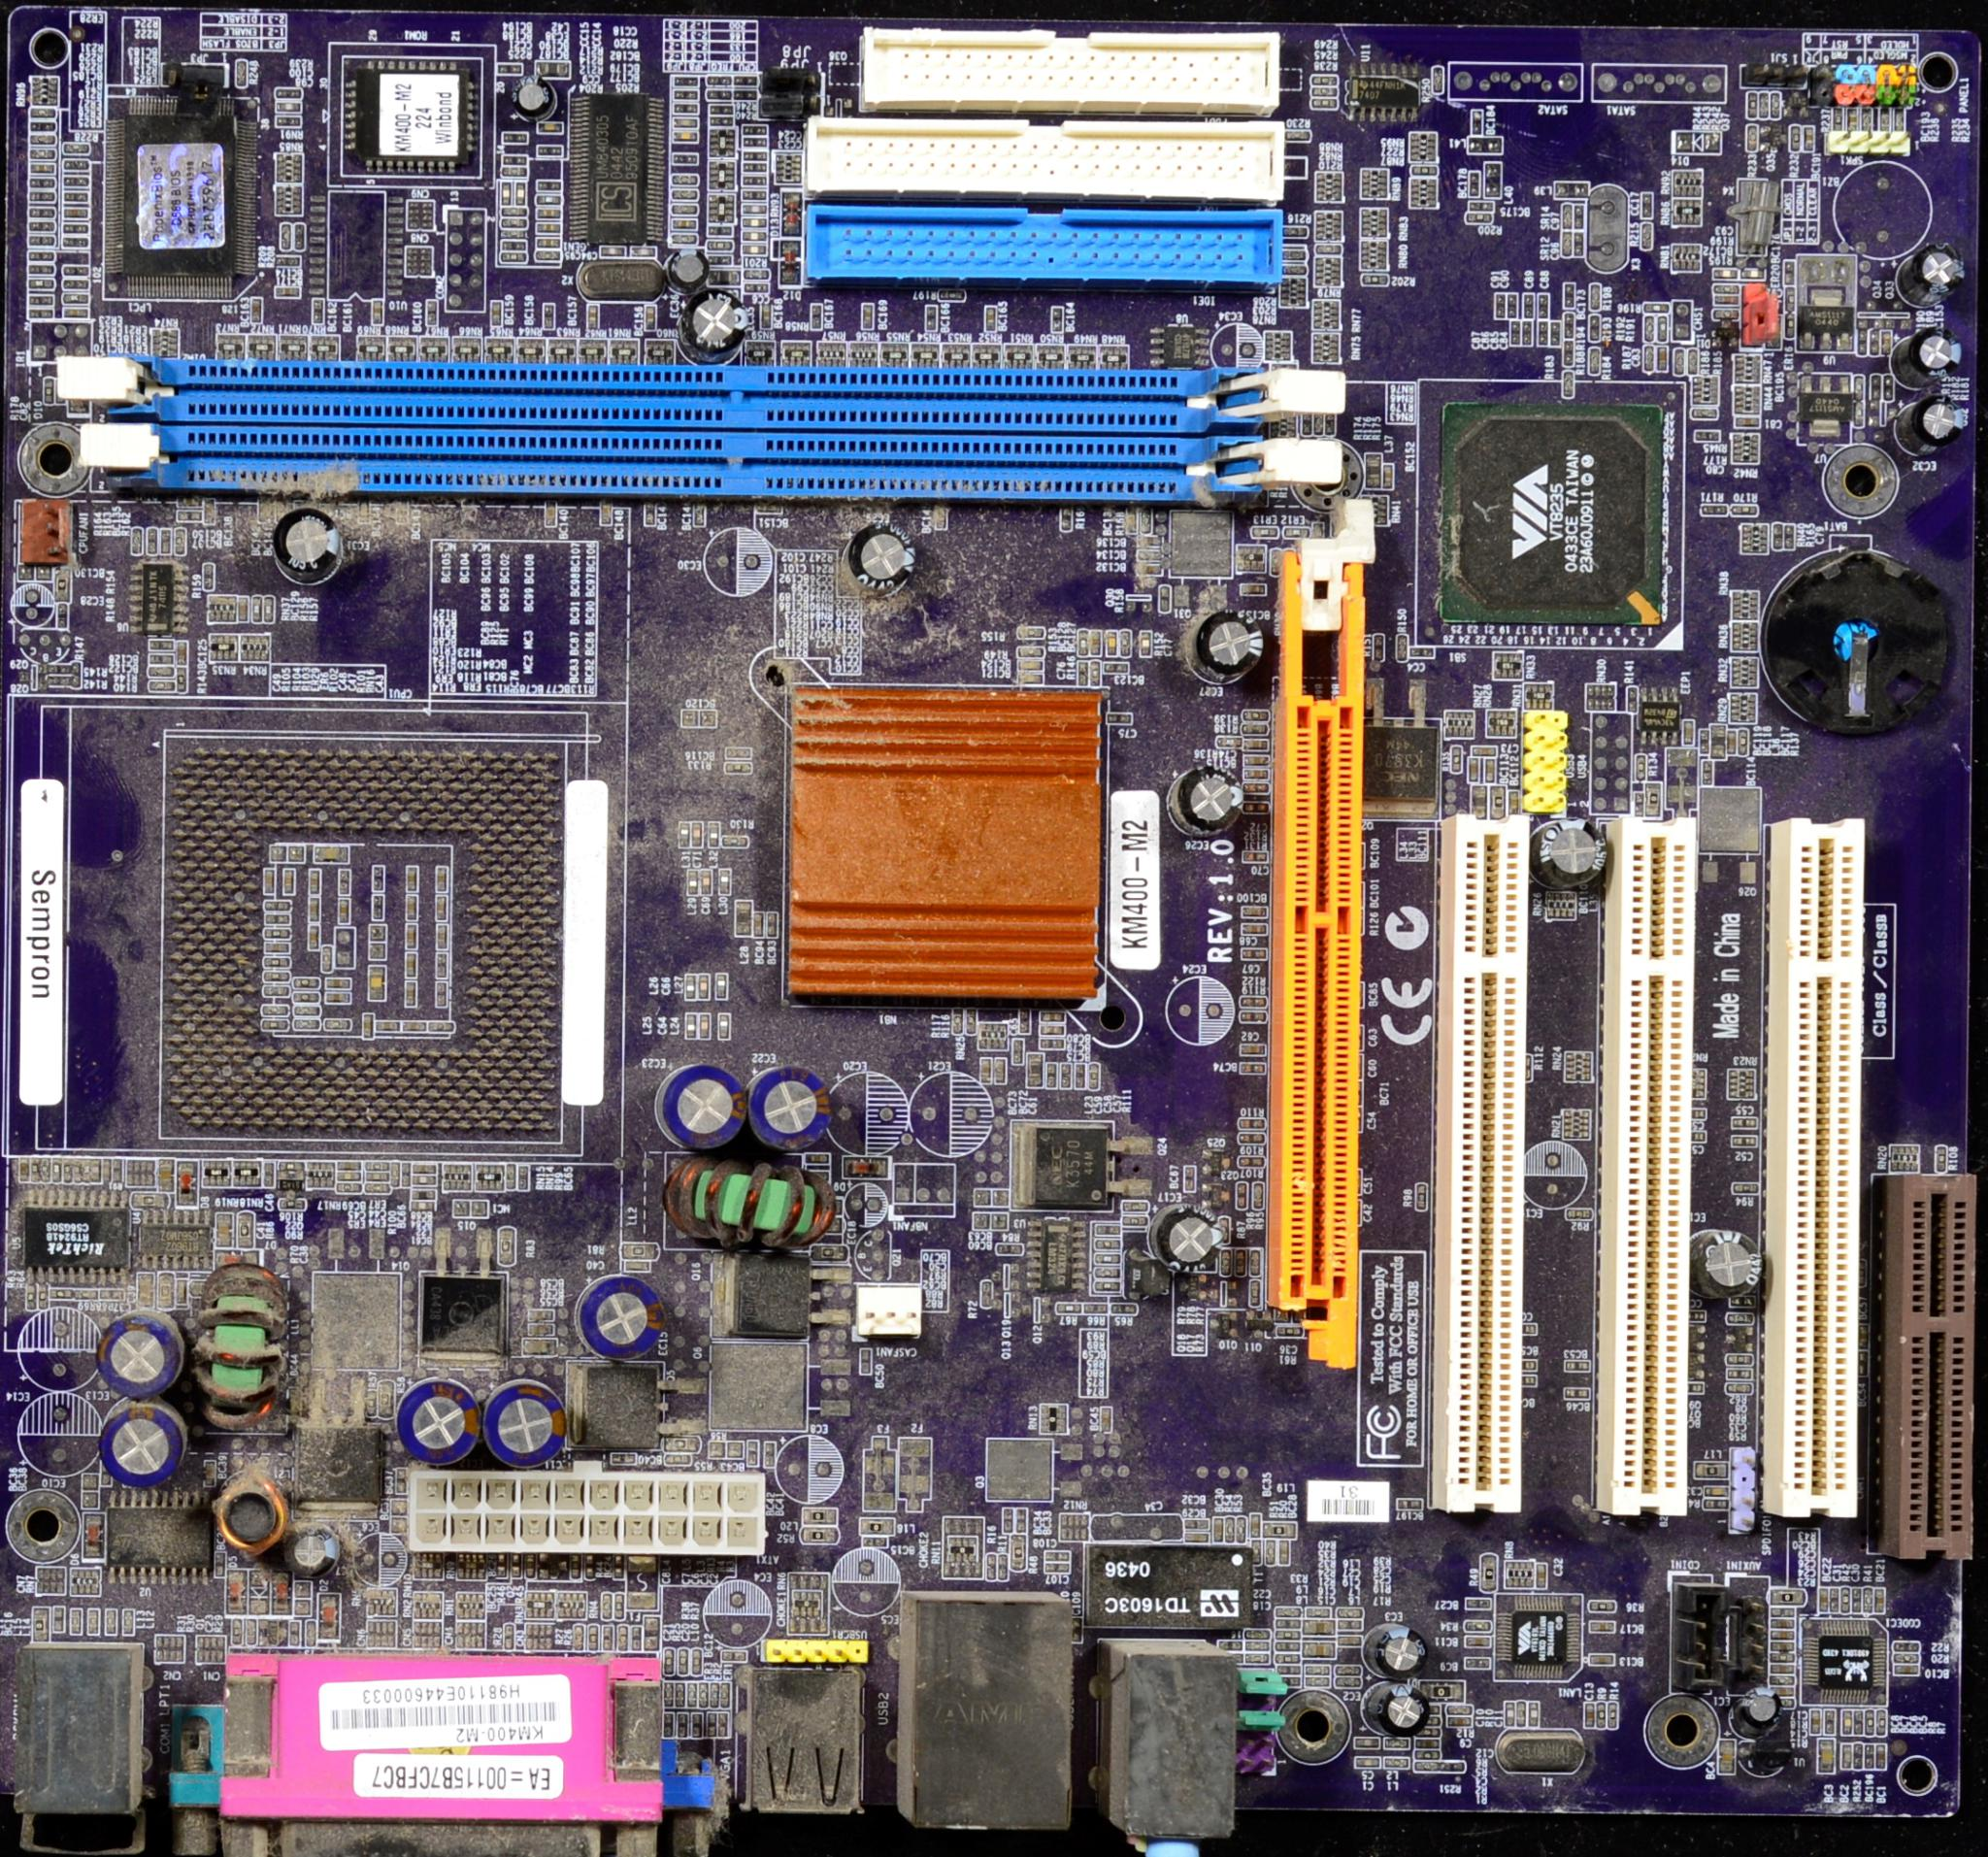Capacitor Jumper: (1531, 805, 1613, 887), (1690, 1229, 1768, 1300), (1377, 1681, 1431, 1740), (1375, 1625, 1433, 1674), (1009, 1534, 1025, 1574), (1300, 1641, 1337, 1656), (499, 178, 515, 208), (337, 1157, 365, 1173), (1442, 1712, 1473, 1726), (1534, 290, 1548, 321), (662, 1646, 675, 1675), (1731, 1131, 1758, 1147), (216, 1216, 232, 1243), (1730, 1115, 1758, 1129), (1704, 1484, 1731, 1497), (1520, 319, 1534, 347), (332, 1182, 358, 1196), (1583, 1695, 1594, 1730), (1494, 293, 1508, 318), (1302, 1625, 1333, 1635), (1506, 295, 1518, 321), (1829, 1581, 1838, 1616), (1501, 1700, 1513, 1724), (1522, 295, 1534, 319), (1042, 1562, 1070, 1573), (1538, 323, 1550, 346), (1047, 1548, 1068, 1560), (1510, 319, 1518, 347), (1241, 949, 1264, 960), (1527, 1702, 1538, 1724), (1244, 923, 1265, 934), (1770, 1662, 1791, 1672), (1538, 1560, 1545, 1590), (276, 103, 298, 112), (515, 183, 524, 206), (698, 1011, 705, 1037), (620, 1260, 646, 1267), (1251, 1513, 1258, 1539), (335, 1171, 360, 1178), (1012, 1040, 1021, 1059), (1775, 1688, 1794, 1696), (747, 232, 766, 241), (1855, 1583, 1861, 1614), (1079, 661, 1086, 684), (436, 867, 443, 890), (1656, 347, 1663, 368), (693, 822, 698, 848), (290, 1623, 297, 1642), (1574, 208, 1581, 227), (635, 246, 655, 253), (1695, 433, 1714, 440), (1140, 635, 1147, 654), (1766, 1632, 1791, 1637), (702, 869, 707, 894), (278, 119, 295, 126), (1573, 232, 1580, 250), (1246, 770, 1264, 777), (503, 241, 525, 246), (1241, 740, 1264, 745), (700, 979, 707, 995), (1690, 1108, 1700, 1119), (1728, 1372, 1749, 1377), (695, 1653, 700, 1674), (1360, 1738, 1375, 1745), (1358, 1759, 1379, 1764), (1553, 323, 1559, 344), (1787, 525, 1793, 546), (1107, 634, 1112, 654), (408, 867, 414, 888), (367, 1173, 386, 1178), (1243, 1045, 1257, 1052), (1773, 1644, 1791, 1649), (744, 220, 761, 225), (1745, 271, 1763, 276), (1410, 649, 1428, 654), (745, 206, 761, 211), (1477, 745, 1492, 750), (1642, 195, 1648, 209), (747, 246, 761, 251), (1719, 271, 1730, 278), (1021, 1012, 1025, 1031), (1079, 1066, 1082, 1086), (1772, 1621, 1789, 1625), (267, 1166, 271, 1182), (1051, 1065, 1052, 1086), (1063, 1068, 1065, 1086), (1697, 1134, 1702, 1140)
Connector: (195, 436, 1161, 482), (182, 372, 1155, 415), (1623, 852, 1679, 1513), (1796, 848, 1850, 1489), (1299, 670, 1351, 1293), (1466, 826, 1503, 1480), (1911, 1185, 1964, 1529)
IC: (581, 94, 655, 236), (21, 1204, 136, 1269), (112, 1506, 206, 1564), (1510, 1607, 1569, 1667), (1030, 1220, 1077, 1286), (1803, 284, 1855, 342), (1820, 1630, 1871, 1684), (148, 1222, 208, 1258), (1806, 379, 1847, 431), (1353, 77, 1414, 106), (145, 567, 169, 630), (1648, 695, 1676, 731), (1168, 328, 1189, 365), (1758, 1745, 1784, 1768), (1733, 419, 1759, 428)
Resistor Jumper: (1480, 1550, 1498, 1593), (1061, 1511, 1087, 1539), (234, 56, 250, 89), (1464, 208, 1492, 225), (1932, 1145, 1948, 1175), (1058, 506, 1075, 532), (742, 122, 770, 138), (1077, 623, 1089, 658), (239, 1215, 253, 1244), (1304, 1672, 1332, 1686), (742, 188, 770, 202), (1702, 501, 1730, 515), (1018, 644, 1045, 658), (1307, 86, 1339, 98), (271, 89, 307, 99), (1588, 281, 1601, 312), (670, 87, 696, 101), (499, 1229, 513, 1255), (1787, 122, 1799, 152), (1515, 1698, 1527, 1728), (175, 525, 187, 555), (1014, 627, 1044, 639), (668, 152, 702, 162), (995, 1553, 1009, 1578), (742, 159, 766, 173), (1307, 1663, 1332, 1677), (1731, 504, 1759, 517), (204, 564, 216, 592), (1311, 73, 1339, 86), (1335, 1607, 1367, 1618), (1890, 1641, 1922, 1651), (1002, 1510, 1014, 1536), (1464, 1620, 1491, 1632), (148, 679, 175, 691), (1018, 1506, 1028, 1536), (1304, 1607, 1333, 1618), (1274, 1607, 1304, 1618), (677, 1648, 688, 1677), (707, 225, 737, 236), (803, 1531, 827, 1543), (147, 529, 159, 553), (1450, 745, 1463, 770), (1634, 754, 1646, 778), (1730, 1182, 1758, 1192), (740, 134, 768, 145), (984, 1552, 995, 1579), (1862, 1586, 1873, 1614), (1143, 510, 1154, 538), (731, 75, 759, 86), (1272, 1621, 1306, 1630), (709, 89, 731, 101), (1108, 1302, 1131, 1314), (707, 115, 733, 126), (1243, 1639, 1269, 1649), (251, 597, 262, 623), (148, 667, 175, 677), (1608, 1700, 1616, 1730), (265, 593, 274, 623), (1567, 1209, 1592, 1220), (744, 150, 768, 161), (1244, 1627, 1269, 1637), (1218, 1641, 1239, 1653), (1447, 1703, 1471, 1714), (742, 178, 766, 188), (1702, 1499, 1730, 1508), (1628, 686, 1637, 714), (672, 77, 700, 86), (1285, 129, 1307, 140), (668, 1440, 691, 1450), (710, 103, 737, 112), (1843, 1586, 1852, 1613), (54, 576, 63, 602), (735, 89, 756, 99), (504, 1166, 515, 1187), (1246, 803, 1267, 813), (232, 1618, 241, 1642), (1597, 1703, 1606, 1728), (133, 529, 141, 553), (267, 901, 291, 909), (1124, 1213, 1143, 1223), (426, 1021, 449, 1030), (1220, 1213, 1229, 1236), (1250, 1250, 1258, 1272), (1777, 1592, 1799, 1600), (1084, 1304, 1101, 1314), (1278, 1325, 1299, 1333), (246, 1616, 253, 1642), (499, 229, 525, 236), (1868, 380, 1878, 398), (1693, 410, 1719, 417), (1436, 65, 1443, 91), (707, 75, 728, 84), (674, 105, 698, 112), (305, 1621, 312, 1646), (1740, 730, 1747, 754), (264, 1019, 283, 1028), (1250, 1285, 1258, 1304), (1590, 318, 1599, 337), (298, 995, 314, 1005), (1058, 1299, 1073, 1309), (1398, 632, 1403, 663), (265, 972, 288, 979), (576, 1625, 583, 1648), (538, 197, 560, 204), (724, 764, 747, 771), (265, 990, 286, 997), (278, 1201, 298, 1208), (1094, 1255, 1115, 1262), (1096, 1265, 1117, 1272), (1592, 349, 1599, 370), (42, 380, 49, 401), (1419, 1185, 1424, 1211), (998, 1244, 1014, 1253), (668, 1454, 684, 1463), (1894, 1655, 1920, 1660), (1772, 1675, 1787, 1684), (33, 178, 49, 187), (281, 223, 286, 250), (1368, 276, 1384, 284), (1285, 229, 1304, 236), (1775, 525, 1782, 545), (723, 838, 747, 843), (965, 1012, 972, 1030), (1241, 1187, 1248, 1204), (628, 1243, 646, 1250), (31, 148, 49, 155), (1253, 1545, 1260, 1562), (1773, 1651, 1787, 1660), (297, 227, 304, 244), (1855, 379, 1862, 396), (1304, 414, 1311, 431), (1241, 1068, 1264, 1073), (983, 1281, 988, 1304), (1855, 1744, 1861, 1766), (1243, 998, 1264, 1004), (326, 1021, 342, 1028), (283, 1171, 298, 1178), (1882, 110, 1889, 126), (1253, 1183, 1258, 1204), (1895, 112, 1902, 127), (1234, 1251, 1239, 1272), (1866, 1710, 1871, 1731), (65, 225, 86, 230), (943, 293, 958, 300), (51, 677, 72, 682), (1225, 1250, 1231, 1269), (592, 1625, 597, 1644), (65, 162, 84, 168), (1878, 1710, 1883, 1730), (745, 269, 764, 274), (1566, 316, 1571, 335), (1658, 318, 1663, 337), (1121, 634, 1126, 653), (1217, 738, 1236, 743), (1594, 1599, 1608, 1606), (1246, 709, 1260, 716), (1248, 782, 1262, 789), (504, 1625, 510, 1642), (66, 178, 84, 183), (1648, 305, 1665, 311), (1566, 344, 1571, 361), (1855, 405, 1861, 422), (47, 665, 73, 668), (117, 1159, 120, 1183), (1094, 1283, 1119, 1286), (1229, 1517, 1232, 1541), (1265, 1543, 1272, 1555), (1749, 98, 1754, 113), (1864, 112, 1869, 127), (35, 124, 51, 129), (1286, 253, 1302, 258), (1717, 309, 1733, 314), (1325, 415, 1330, 431), (1243, 726, 1258, 731), (955, 1009, 958, 1031), (1239, 1515, 1243, 1538), (503, 208, 525, 211), (31, 209, 54, 213), (1314, 103, 1335, 106), (1243, 1138, 1264, 1141), (506, 222, 520, 227), (1644, 225, 1648, 246), (1644, 349, 1648, 370), (298, 979, 318, 983), (1093, 1068, 1096, 1087), (1122, 1203, 1141, 1206), (1730, 1358, 1749, 1361), (1751, 127, 1754, 147), (503, 255, 522, 258), (1646, 318, 1649, 337), (1286, 265, 1299, 271), (1834, 108, 1838, 126), (604, 1597, 607, 1614), (539, 251, 557, 255), (1677, 353, 1681, 370), (1566, 375, 1569, 393), (1374, 639, 1377, 656), (1094, 661, 1098, 679), (1763, 98, 1766, 113), (1244, 1119, 1260, 1122), (1241, 1161, 1257, 1164), (31, 136, 47, 140), (1885, 382, 1889, 398), (1316, 415, 1320, 431), (1096, 1243, 1110, 1246), (37, 194, 51, 197), (1717, 286, 1731, 290), (1779, 1702, 1791, 1705), (1527, 1056, 1529, 1079), (1726, 1388, 1749, 1389), (1693, 351, 1695, 370), (1773, 98, 1775, 113)
Transistor: (1016, 1127, 1105, 1197), (422, 1279, 501, 1354), (1368, 731, 1426, 801), (1244, 1316, 1267, 1342), (1218, 1314, 1239, 1337), (1180, 1278, 1204, 1297), (1204, 1183, 1222, 1204), (260, 1618, 274, 1642), (1787, 93, 1806, 110), (1206, 1152, 1218, 1173), (283, 1180, 304, 1192)
